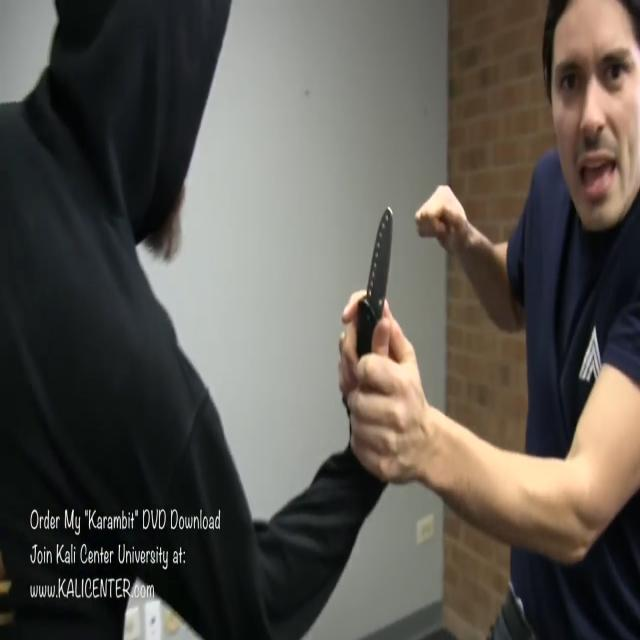knife: (359, 195, 397, 358)
